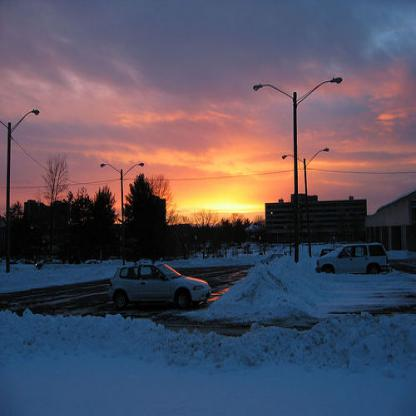car: (108, 262, 212, 309), (316, 242, 390, 276)
